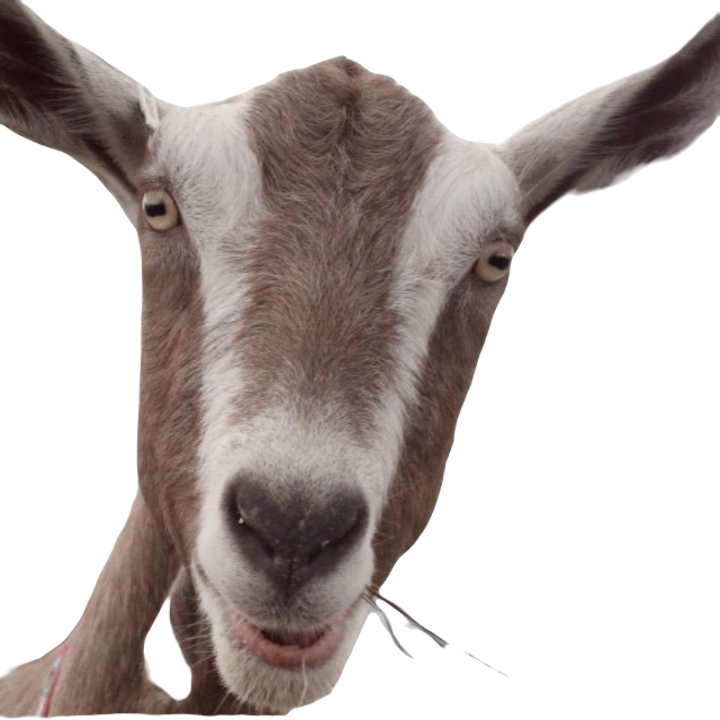Goat: (0, 0, 718, 717)
